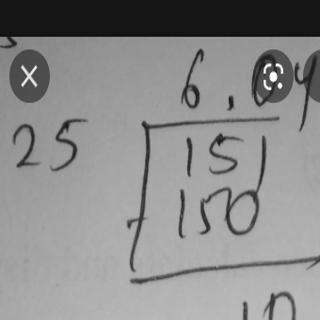.: (222, 94, 243, 111)
0: (225, 187, 263, 234)
1: (256, 134, 267, 190), (182, 136, 194, 176), (176, 189, 186, 235)
2: (14, 124, 39, 168)
5: (49, 114, 87, 174), (196, 185, 231, 239), (205, 133, 245, 178)
6: (177, 46, 212, 110)
